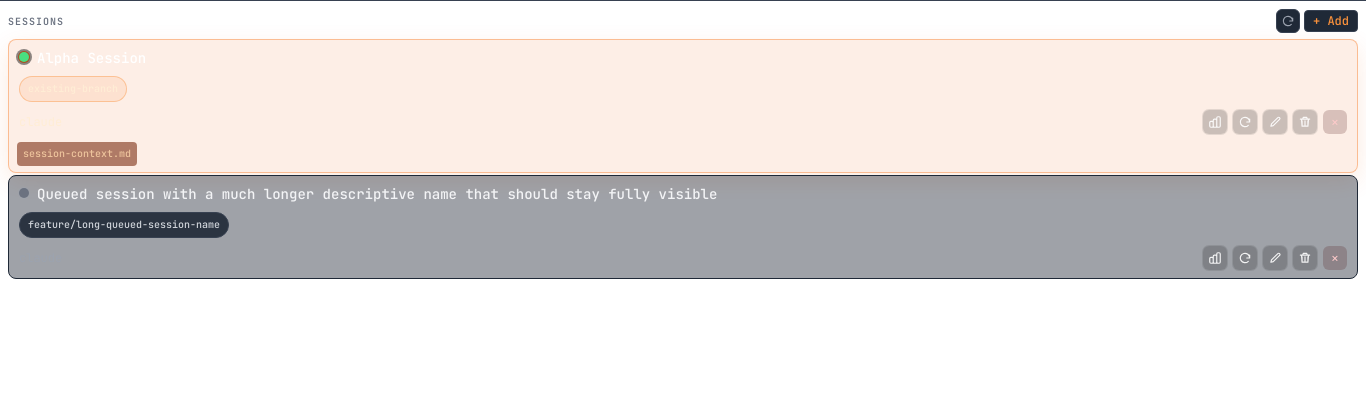
it: SessionList › updates the active session name and context refs
Expected: the list item "Alpha Session" is shown, [37,49,146,67]
Click the 1st button named "Update session" at (1275, 122), box [1263,110,1287,134]
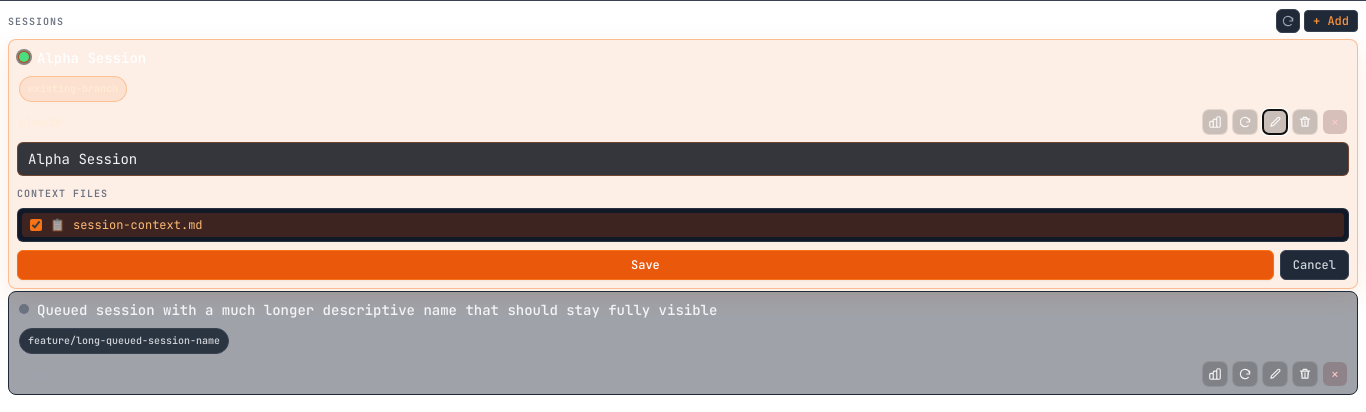
Expected: the list item "Alpha Session" is shown, [37,49,146,67]
Replace the text in the field with placeholder "Session name" with "Renamed Session" at (683, 159), box [17,142,1349,176]
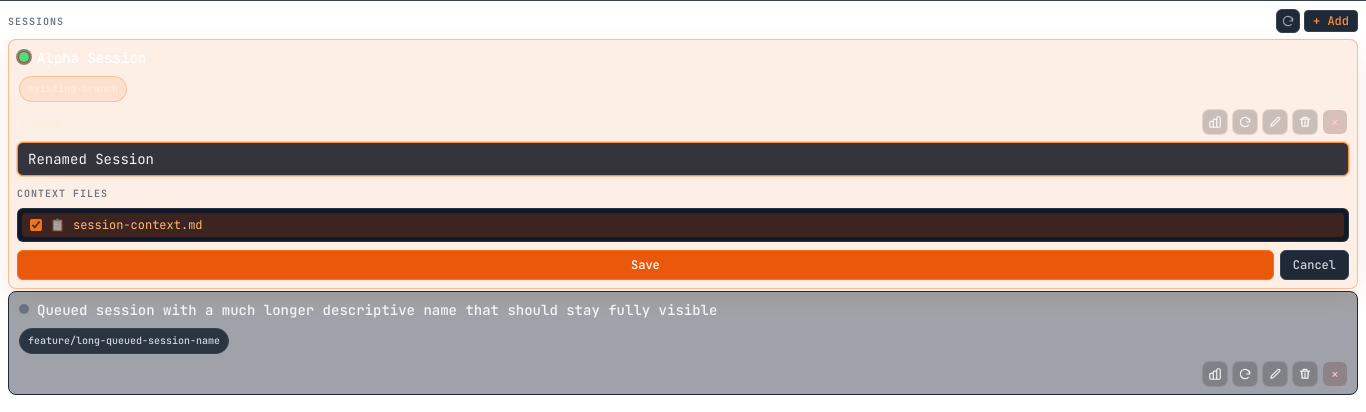
Click the button "Save" at (645, 265), box [17,250,1274,280]
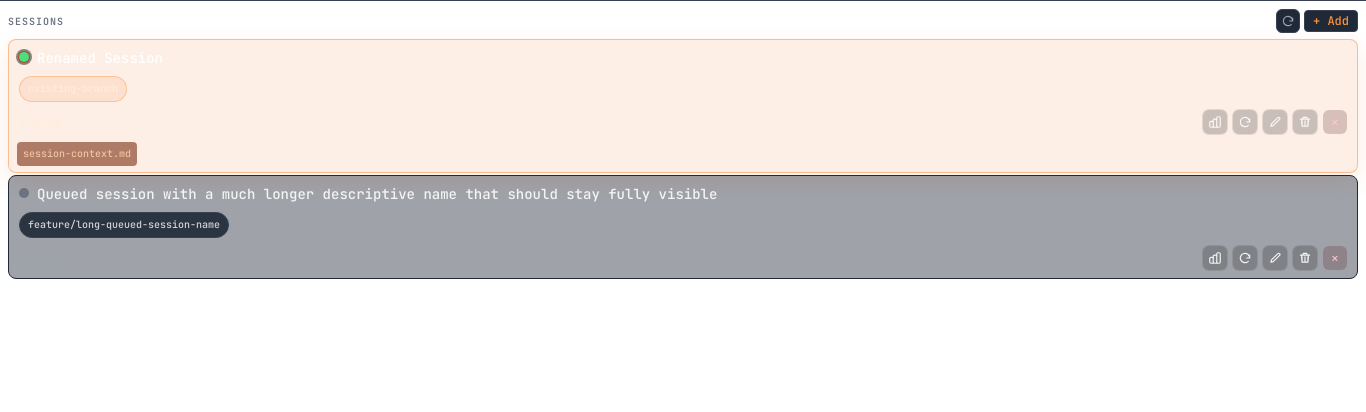
Expected: the text "Alpha Session" reads "Renamed Session", [37,49,163,67]
